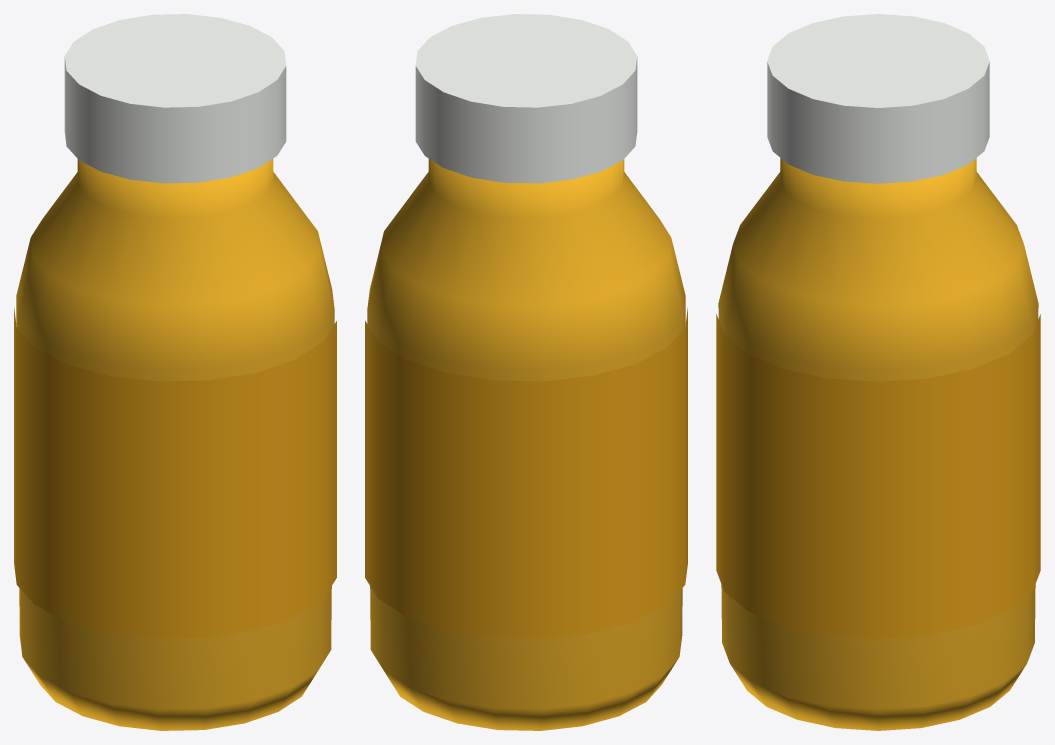
The model's file is bottle-3.glb.
3 renders of one model, left to right at view 1: azimuth 30°, elevation 25°; view 2: azimuth 150°, elevation 25°; view 3: azimuth 270°, elevation 25°, orthographic.
Visible parts, largest first — view 1: BrandLabel, JuiceBody, BottleCap; view 2: BrandLabel, JuiceBody, BottleCap; view 3: BrandLabel, JuiceBody, BottleCap.
Part boxes in pixels (left/top/right/bottom): BrandLabel: left=14, top=307, right=336, bottom=638; JuiceBody: left=16, top=159, right=334, bottom=730; BottleCap: left=64, top=14, right=286, bottom=183; BrandLabel: left=365, top=307, right=687, bottom=638; JuiceBody: left=367, top=159, right=685, bottom=730; BottleCap: left=415, top=14, right=637, bottom=183; BrandLabel: left=716, top=314, right=1040, bottom=638; JuiceBody: left=718, top=158, right=1038, bottom=730; BottleCap: left=767, top=14, right=989, bottom=183.
Size of the model in its own units: 0.446 by 0.9275 by 0.446.
